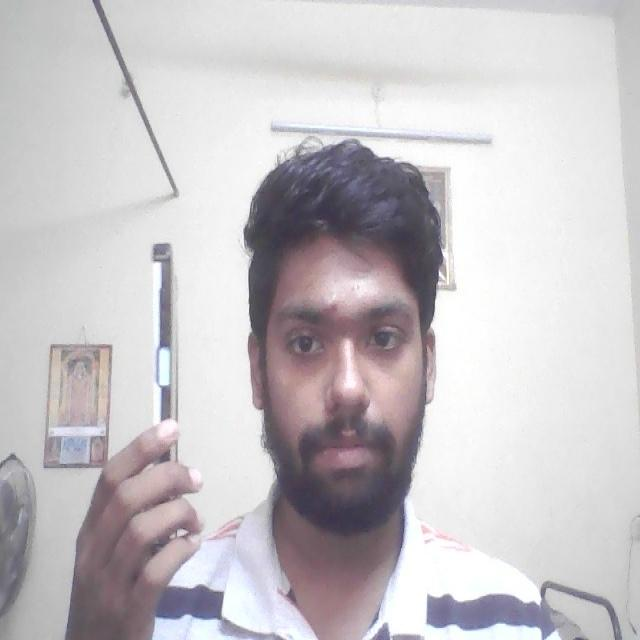Mobile: (144, 233, 186, 463)
